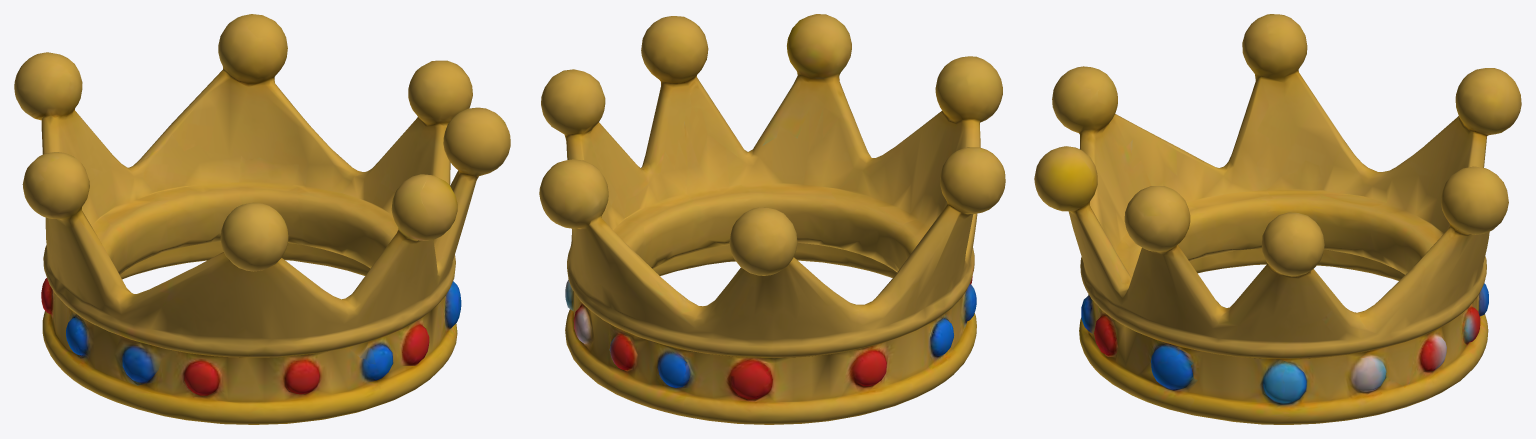
The model's file is crown.glb.
3 views of the same model, side by side, from view 1: azimuth 30°, elevation 25°; view 2: azimuth 150°, elevation 25°; view 3: azimuth 270°, elevation 25° (orthographic). The views are drawn at different scales.
Visible parts, largest first — view 1: tripo_node_51bf3a9a-572e-467b-a5e9-092b702fa2df; view 2: tripo_node_51bf3a9a-572e-467b-a5e9-092b702fa2df; view 3: tripo_node_51bf3a9a-572e-467b-a5e9-092b702fa2df.
Boxes of the visible parts, x1=… form: tripo_node_51bf3a9a-572e-467b-a5e9-092b702fa2df: x1=14, y1=14, x2=510, y2=424; tripo_node_51bf3a9a-572e-467b-a5e9-092b702fa2df: x1=539, y1=14, x2=1005, y2=424; tripo_node_51bf3a9a-572e-467b-a5e9-092b702fa2df: x1=1034, y1=14, x2=1521, y2=424.
Bounding box in the file's own units: 1 × 0.505 × 0.9631.
1 material, 1 textured.
